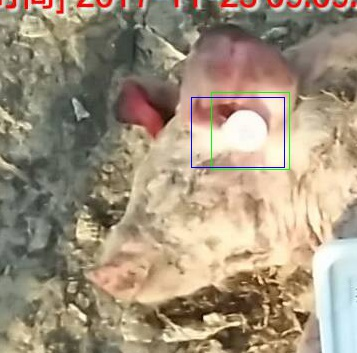text: (211, 92, 289, 169)
